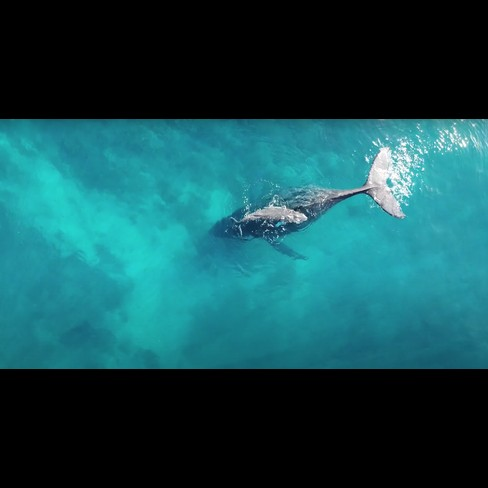hump: (203, 141, 412, 264)
